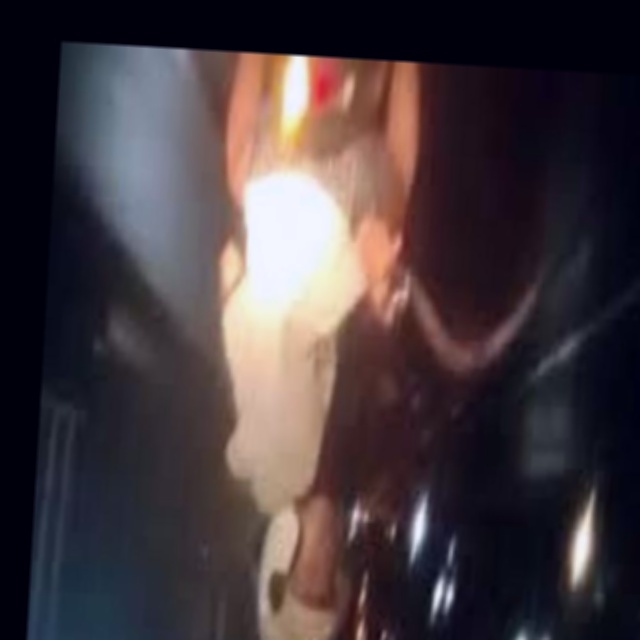Sharp-Object: (375, 163, 549, 433)
